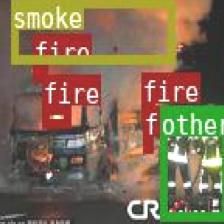fire: (42, 104, 70, 127), (32, 65, 46, 81), (140, 103, 153, 119), (142, 136, 152, 150)
smoke: (10, 0, 173, 62)
